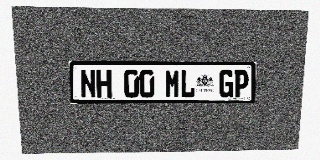0: (124, 69, 139, 98), (139, 70, 154, 98)
G: (219, 70, 234, 97)
H: (96, 69, 112, 98)
L: (180, 70, 195, 98)
M: (165, 70, 180, 98)
N: (80, 69, 96, 98)
P: (233, 70, 249, 97)
